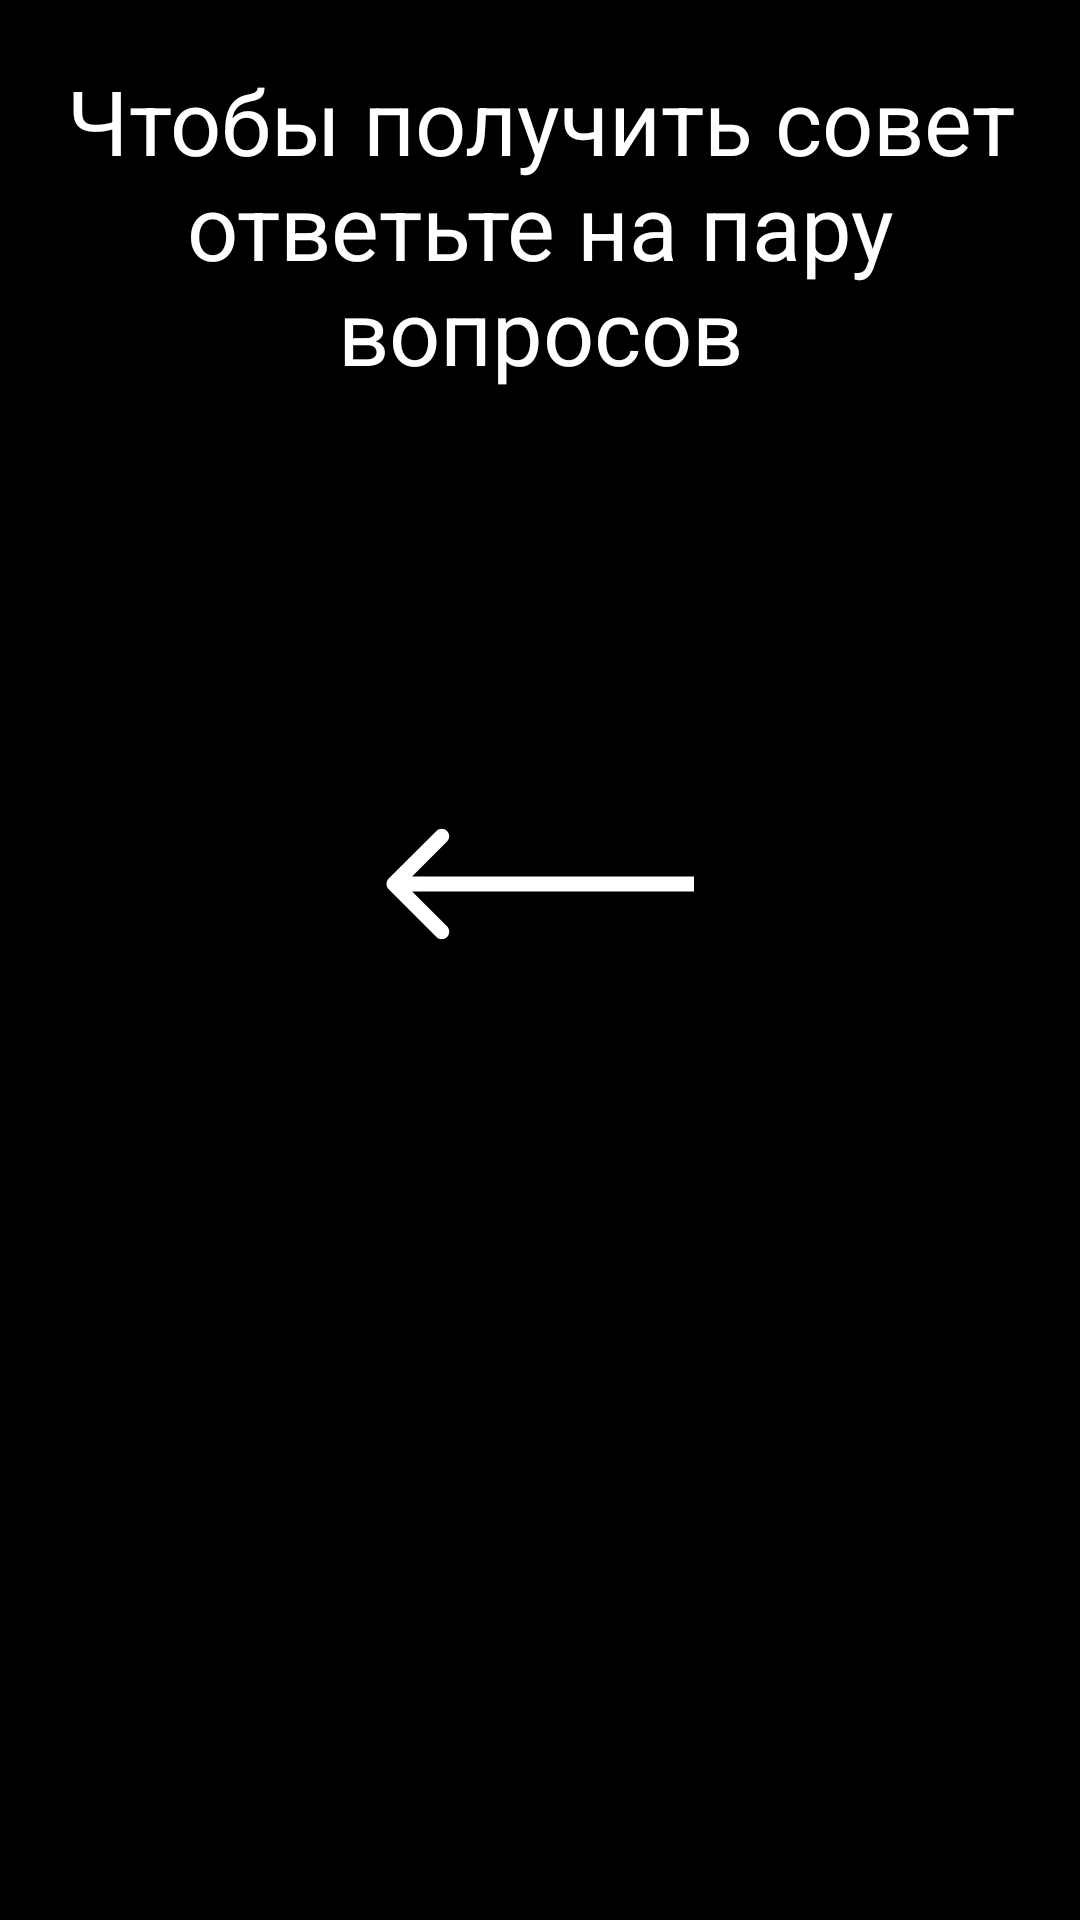

Icons on this 1080w x 1920h Android screen, each with the point to tap as (x,y):
arrow: (540,884)
